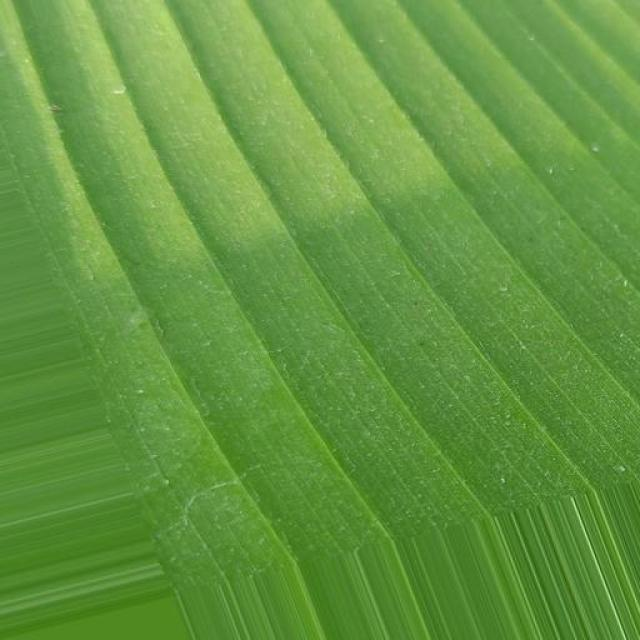Black_leaf_spot: (6, 0, 612, 567)
